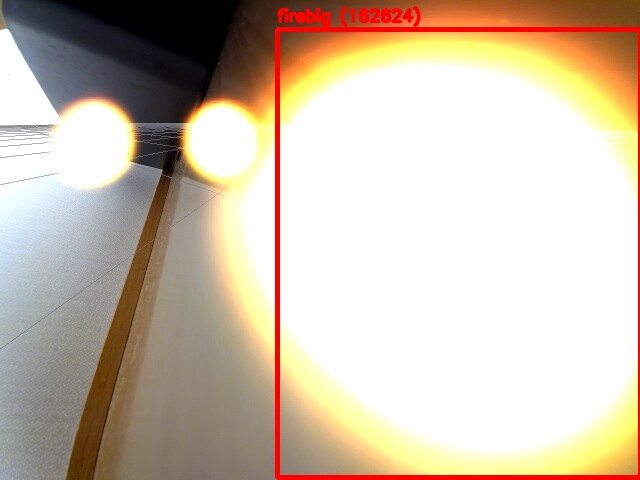firebig: (277, 29, 640, 477)
